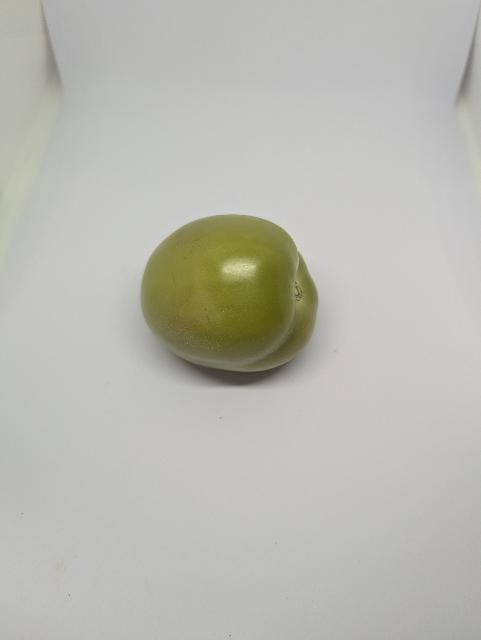green: (121, 202, 333, 384)
